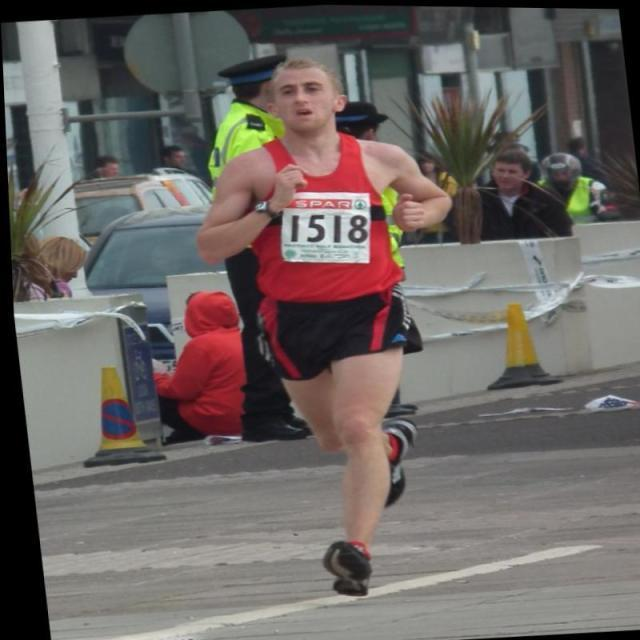dorsal: (262, 175, 382, 272)
